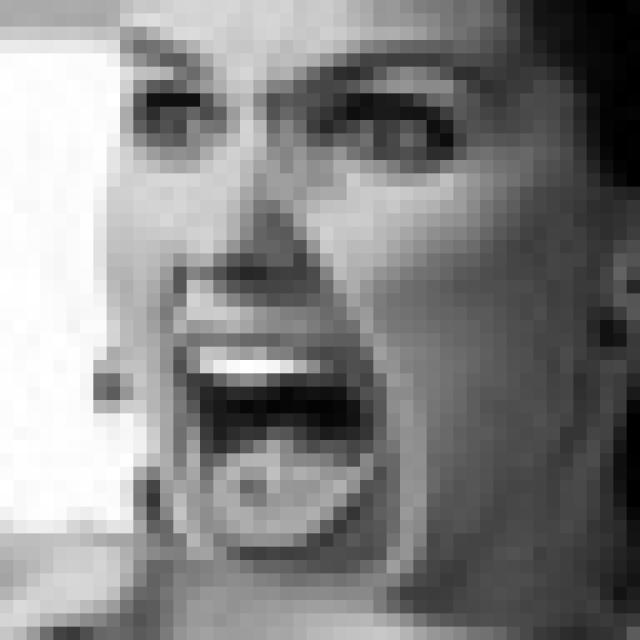angry: (112, 25, 514, 572)
